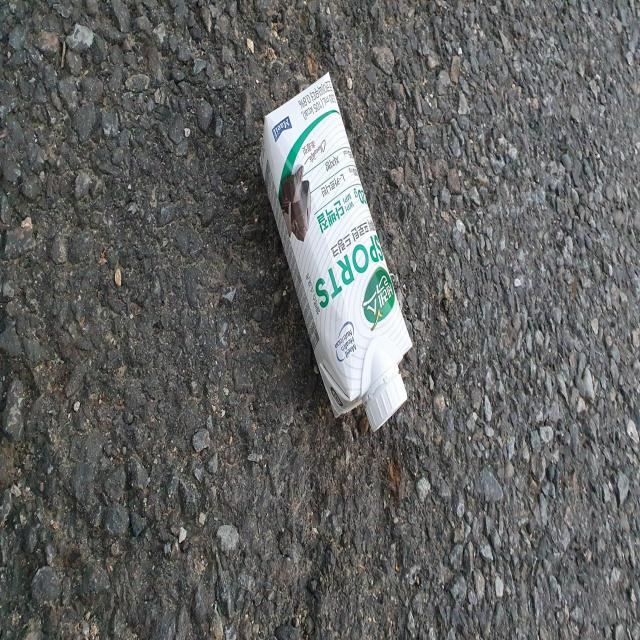paperpack: (260, 72, 412, 431)
